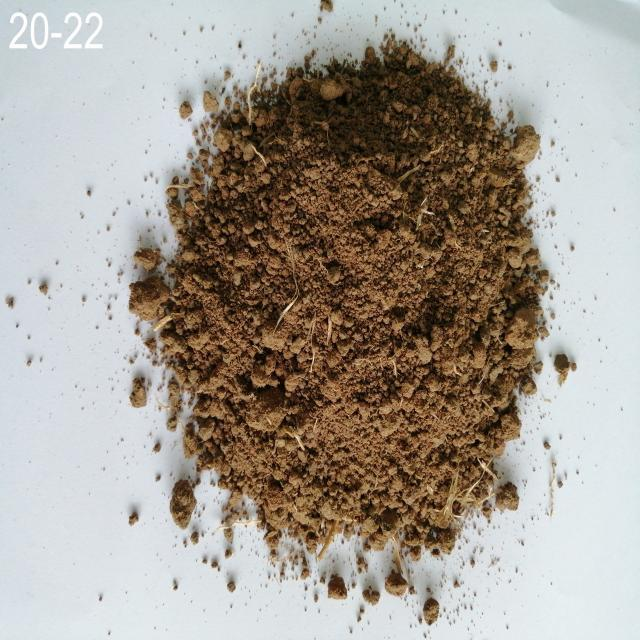soil: (238, 127, 473, 455)
